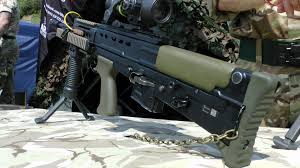gun: (54, 9, 277, 166)
